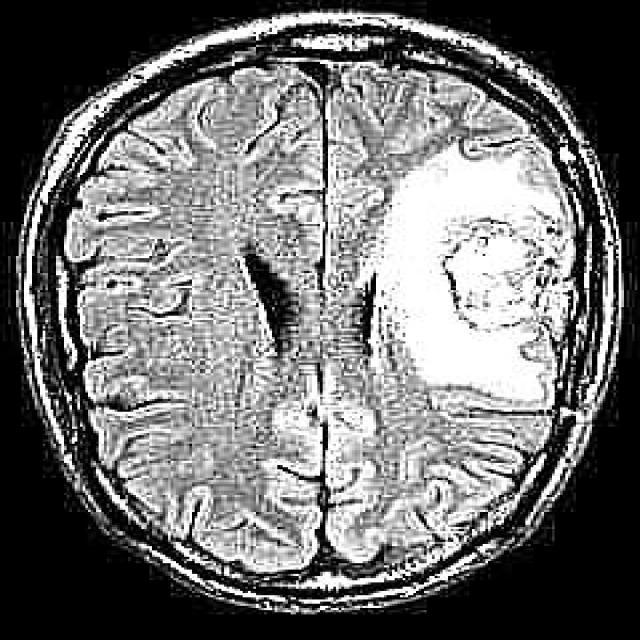tumor: (373, 143, 576, 410)
